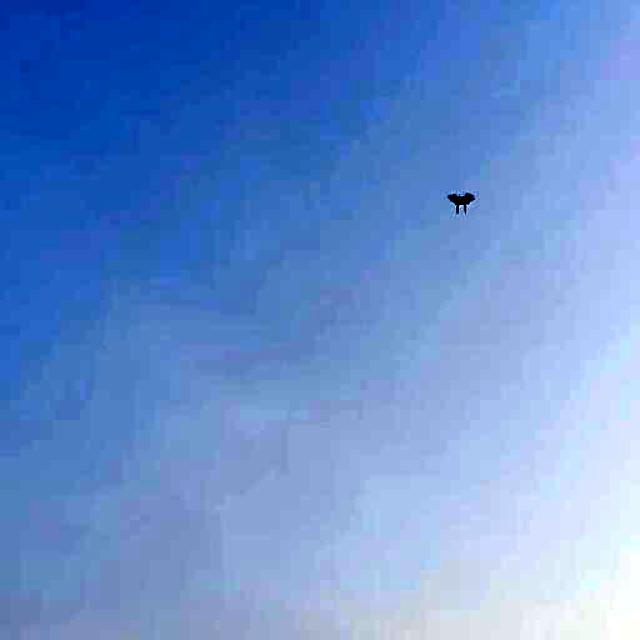bird: (449, 179, 475, 220)
